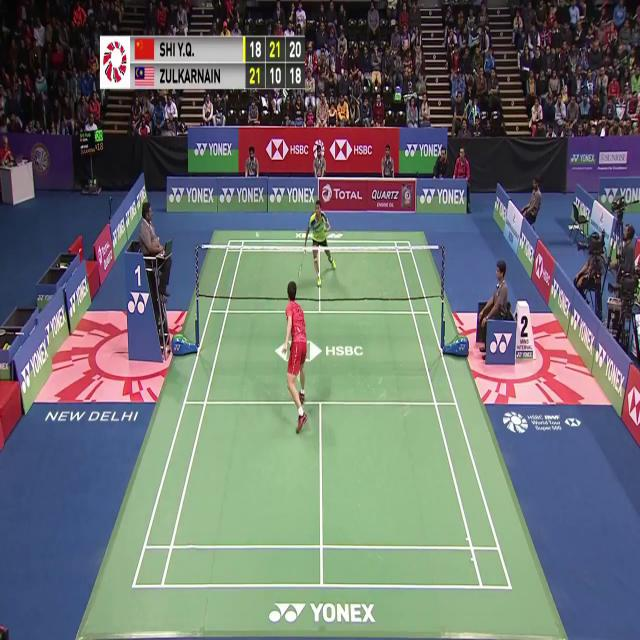Shuttlecock: (254, 227, 260, 239)
